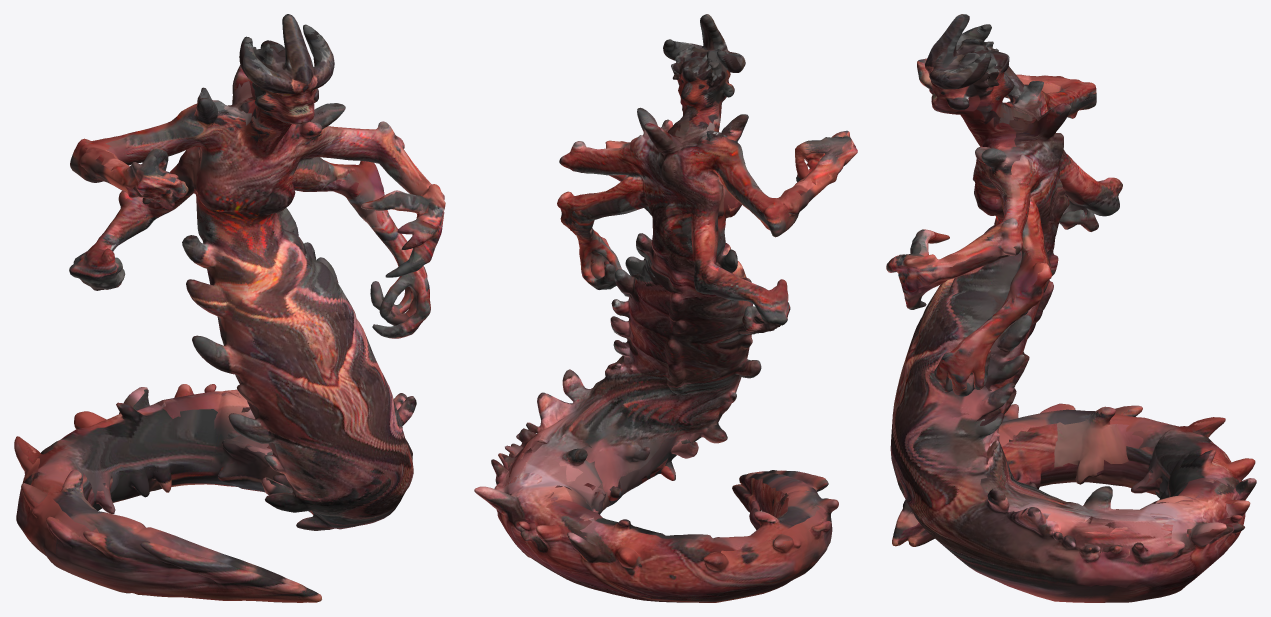
Rendered from xalvakka-overview-v1.glb.
The picture shows the model from 3 angles, left to right: view 1: azimuth 30°, elevation 25°; view 2: azimuth 150°, elevation 25°; view 3: azimuth 270°, elevation 25°; orthographic projection. The views are drawn at different scales.
Parts seen in each view (by area): view 1: xalvakka; view 2: xalvakka; view 3: xalvakka.
Boxes of the visible parts, <box> form: xalvakka: <box>14,14,445,602</box>; xalvakka: <box>474,14,857,602</box>; xalvakka: <box>886,14,1256,602</box>.
Size of the model in its own units: 1.3 by 1.99 by 1.25.
Materials: 1 (1 with a texture image).
